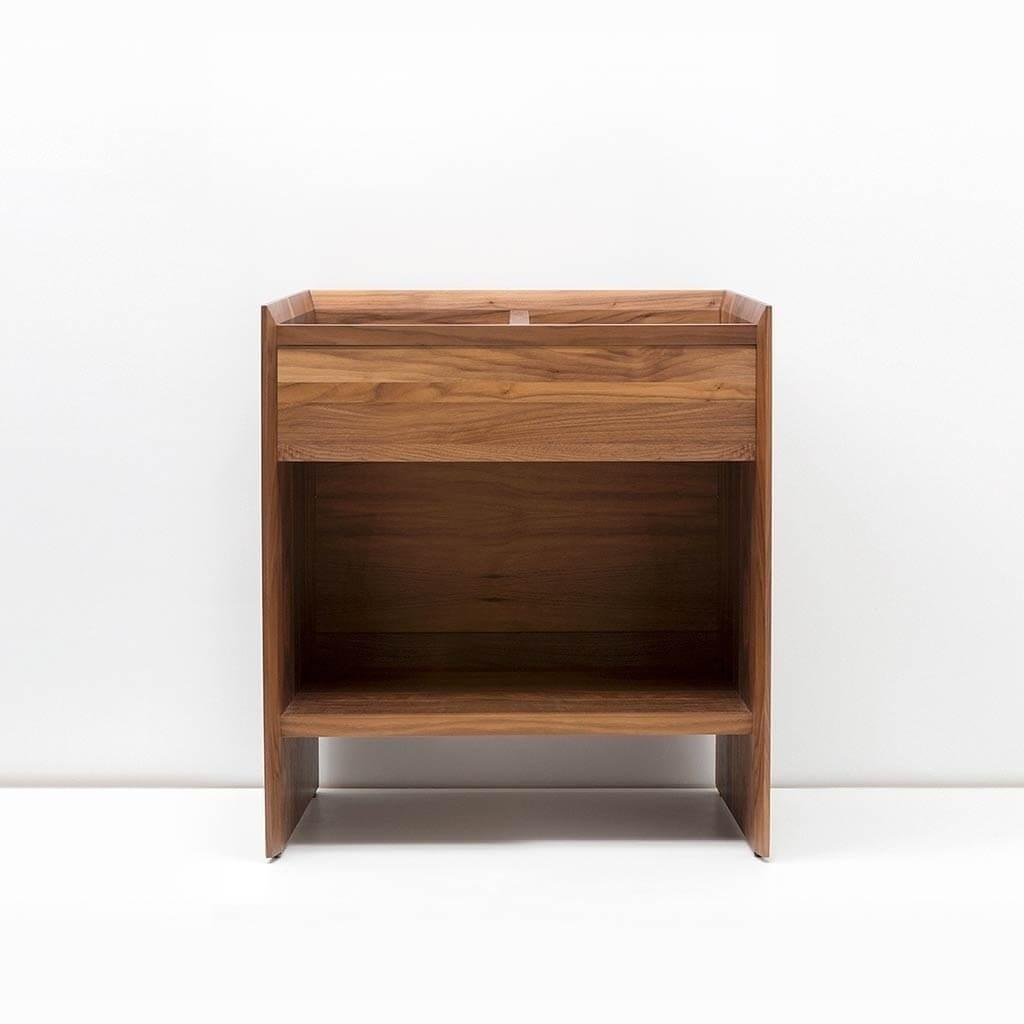cabinet_door: (281, 345, 748, 465)
